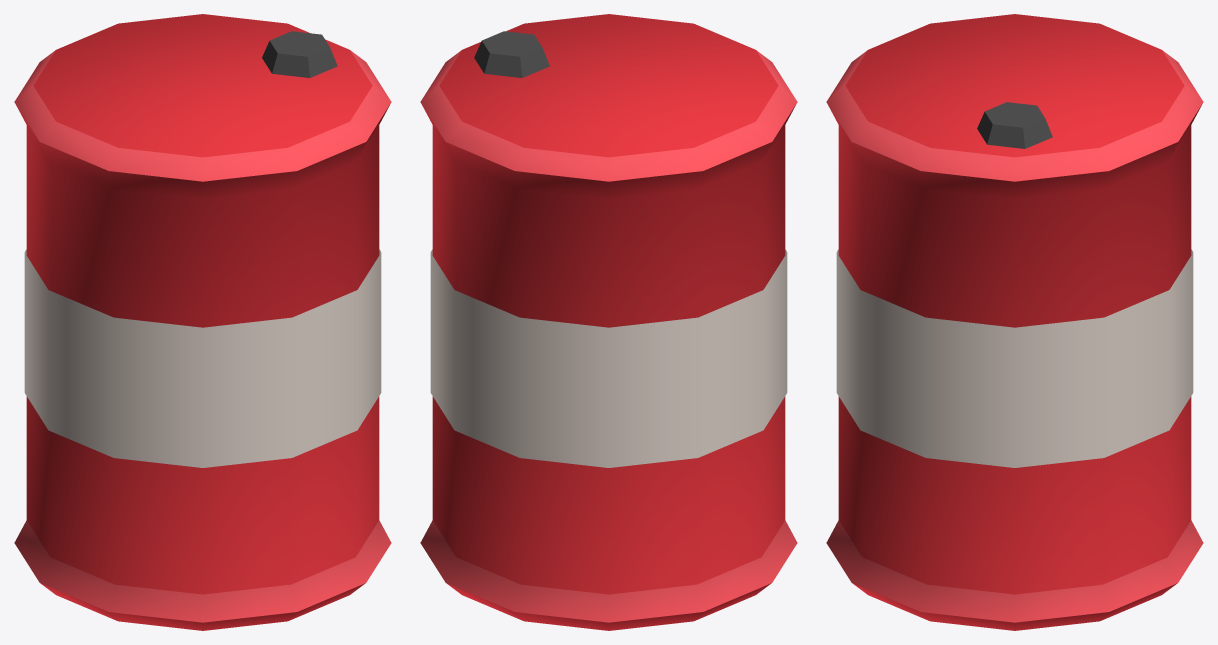
Rendered from Barrel.fbx.
3 views of the same model, side by side, from view 1: azimuth 30°, elevation 25°; view 2: azimuth 150°, elevation 25°; view 3: azimuth 270°, elevation 25° (orthographic).
Visible parts, largest first — view 1: Barrel_1A; view 2: Barrel_1A; view 3: Barrel_1A.
Boxes of the visible parts, x1=… form: Barrel_1A: x1=14, y1=14, x2=391, y2=630; Barrel_1A: x1=420, y1=14, x2=797, y2=630; Barrel_1A: x1=826, y1=14, x2=1203, y2=630.
Bounding box in the file's own units: 2254 × 3241 × 2254.
